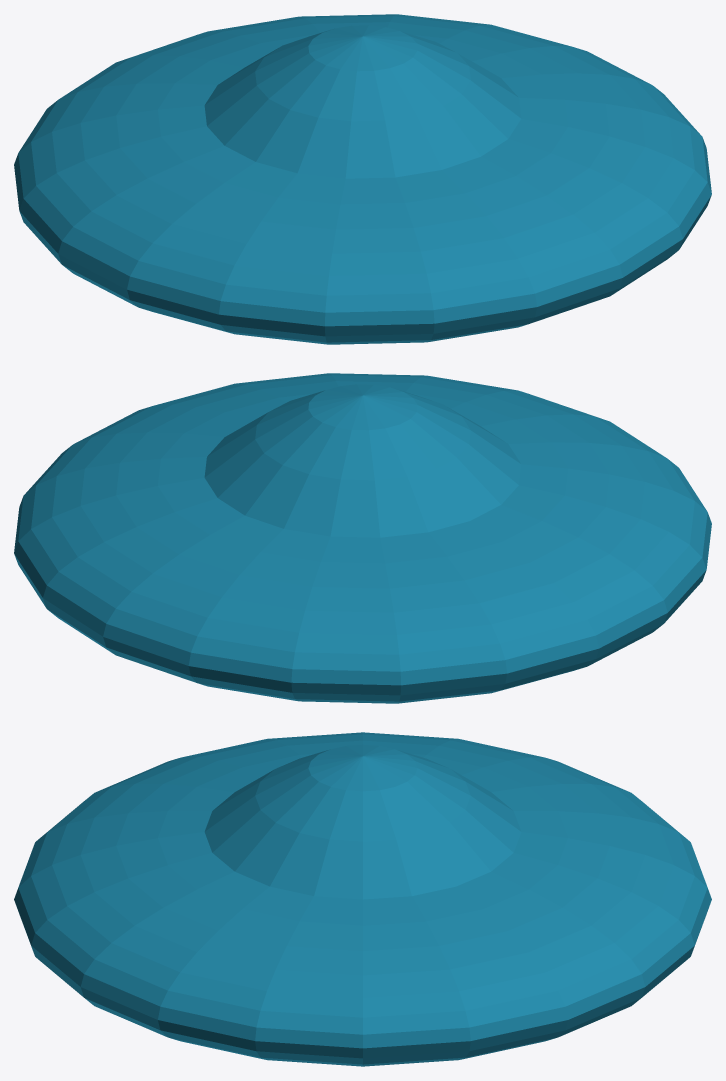
The model's file is Alien_Spaceship2.fbx.
3 views of the same model, one above another, from view 1: azimuth 30°, elevation 25°; view 2: azimuth 150°, elevation 25°; view 3: azimuth 270°, elevation 25° (orthographic).
Parts seen in each view (by area): view 1: Alien_Spaceship1; view 2: Alien_Spaceship1; view 3: Alien_Spaceship1.
Boxes of the visible parts, x1,y1,x2,y2 form: Alien_Spaceship1: (14, 14, 711, 344); Alien_Spaceship1: (14, 373, 711, 703); Alien_Spaceship1: (14, 732, 711, 1066).
Bounding box in the file's own units: 118 × 117 × 40.64.
